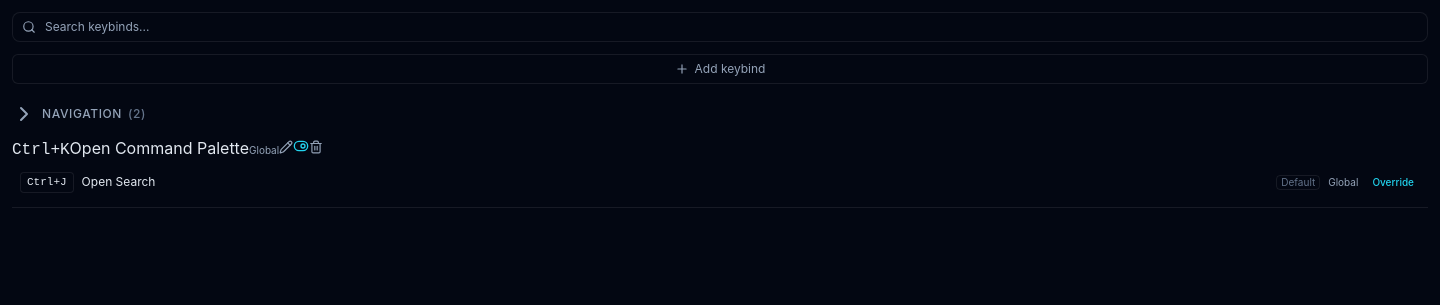
it: KeybindSettings › keystroke recorder › re-recording a binding onto used keys asks before saving
This screenshot has width=1440, height=305.
Click the button "Ctrl+K".
click(41, 150)  # box [12,141,70,159]
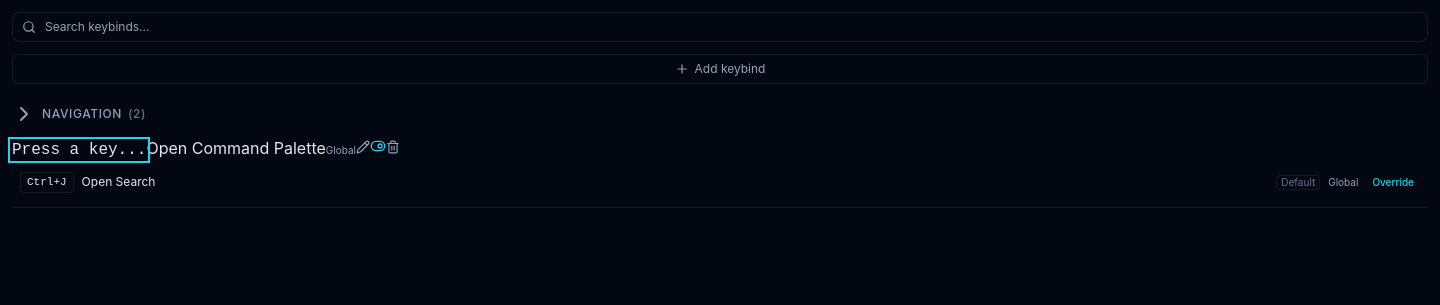
Check: the button named "Ctrl+K" has attribute data-keystroke-recorder
Press j in the button named "Ctrl+K", box [12,141,146,159]
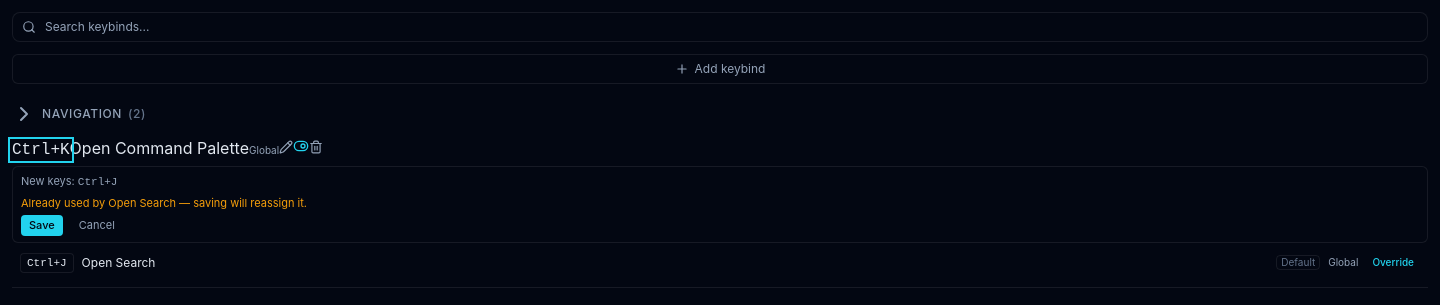
Check: the text "Already used by Open Search — saving will reassign it." is shown, box [21,196,307,210]
Check: the button "Cancel" is shown, box [71,215,123,236]
Click the button "Save".
click(42, 225)  # box [21,215,63,236]
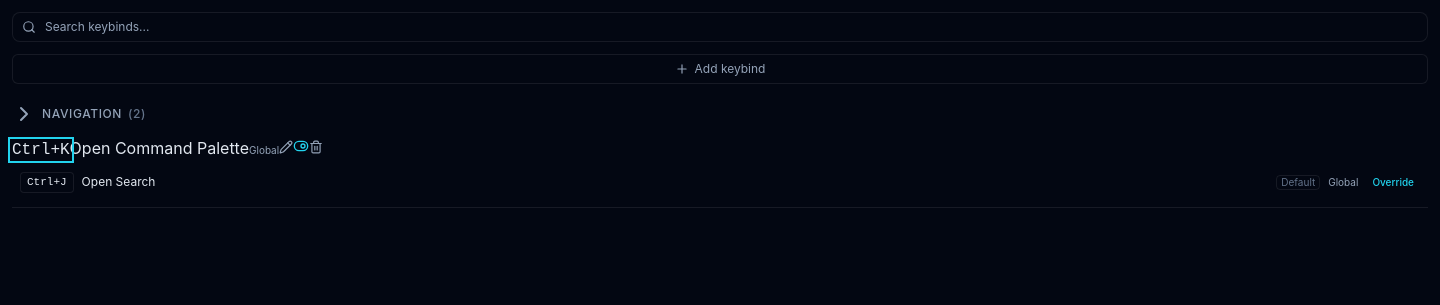
Check: the text "Already used by" is gone
